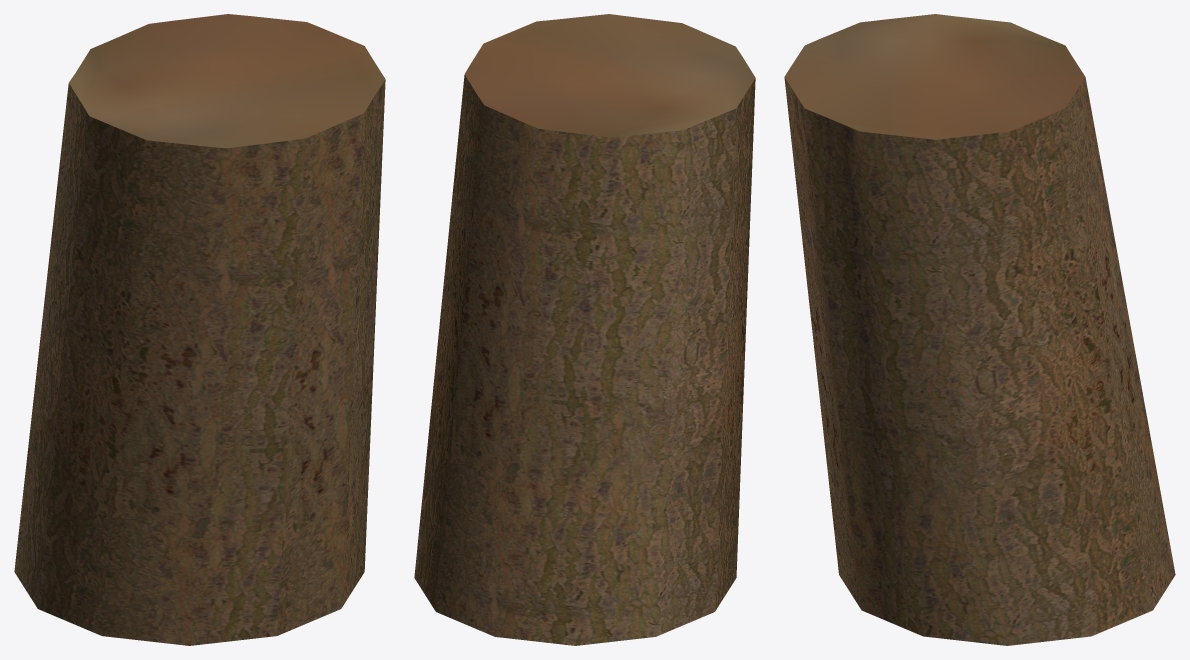
The model's file is stump.glb.
The picture shows the model from 3 angles, left to right: view 1: azimuth 30°, elevation 25°; view 2: azimuth 150°, elevation 25°; view 3: azimuth 270°, elevation 25°; orthographic projection. The views are drawn at different scales.
Visible parts, largest first — view 1: Stump_tcollider; view 2: Stump_tcollider; view 3: Stump_tcollider.
Part boxes in pixels (left/top/right/bottom): Stump_tcollider: left=14, top=14, right=385, bottom=645; Stump_tcollider: left=414, top=14, right=755, bottom=645; Stump_tcollider: left=784, top=14, right=1175, bottom=645.
Size of the model in its own units: 0.4401 by 0.7207 by 0.5115.
Materials: 1 (1 with a texture image).
